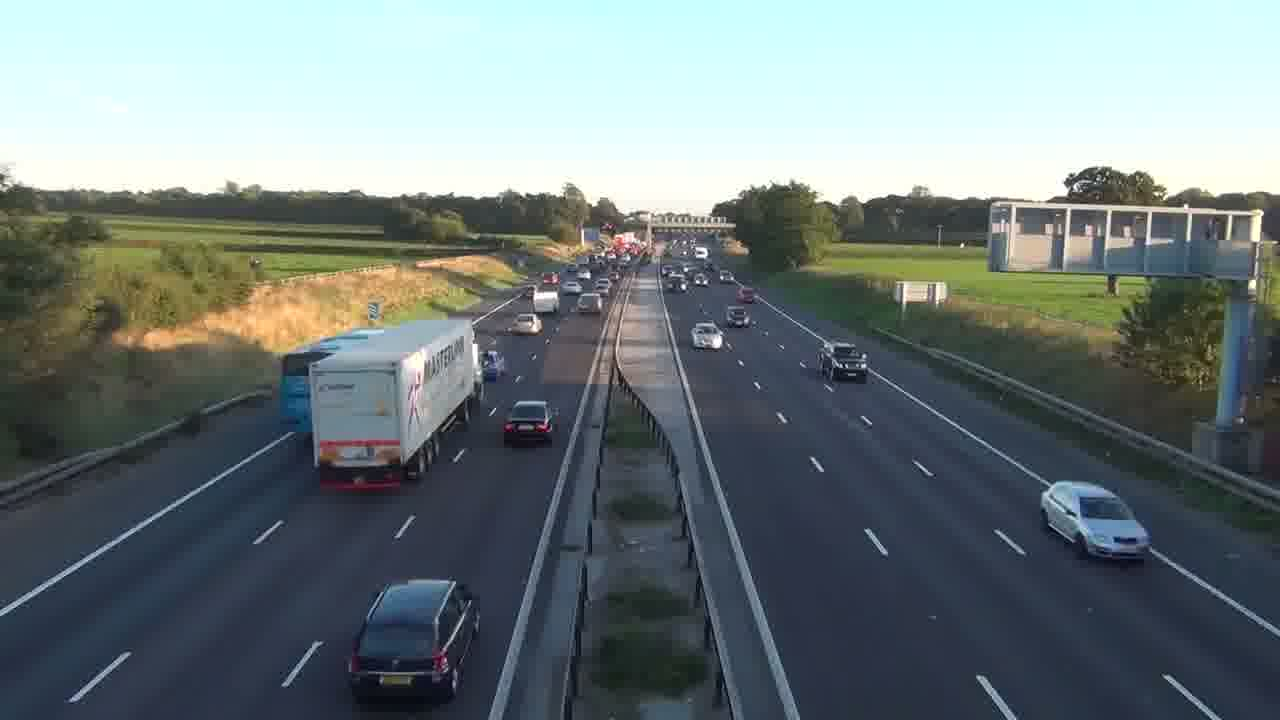car: (346, 577, 481, 704), (1039, 479, 1152, 563), (503, 399, 556, 448)
truck: (310, 321, 482, 493)
